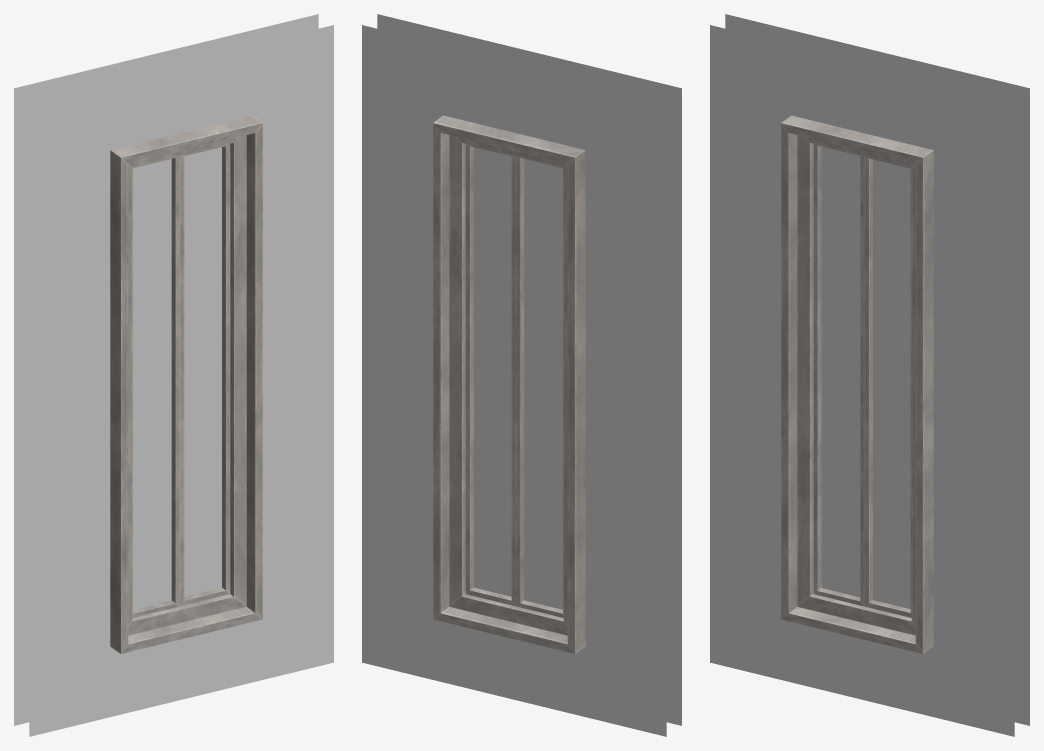
Rendered from Wall_Window_O.fbx.
3 renders of one model, left to right at view 1: azimuth 30°, elevation 25°; view 2: azimuth 150°, elevation 25°; view 3: azimuth 330°, elevation 25°, orthographic.
Parts seen in each view (by area): view 1: Wall_Window_O; view 2: Wall_Window_O; view 3: Wall_Window_O.
Boxes of the visible parts, x1,y1,x2,y2 form: Wall_Window_O: (14,14,333,736); Wall_Window_O: (362,14,681,736); Wall_Window_O: (710,14,1029,736).
Size of the model in its own units: 3 by 0.6115 by 6.
